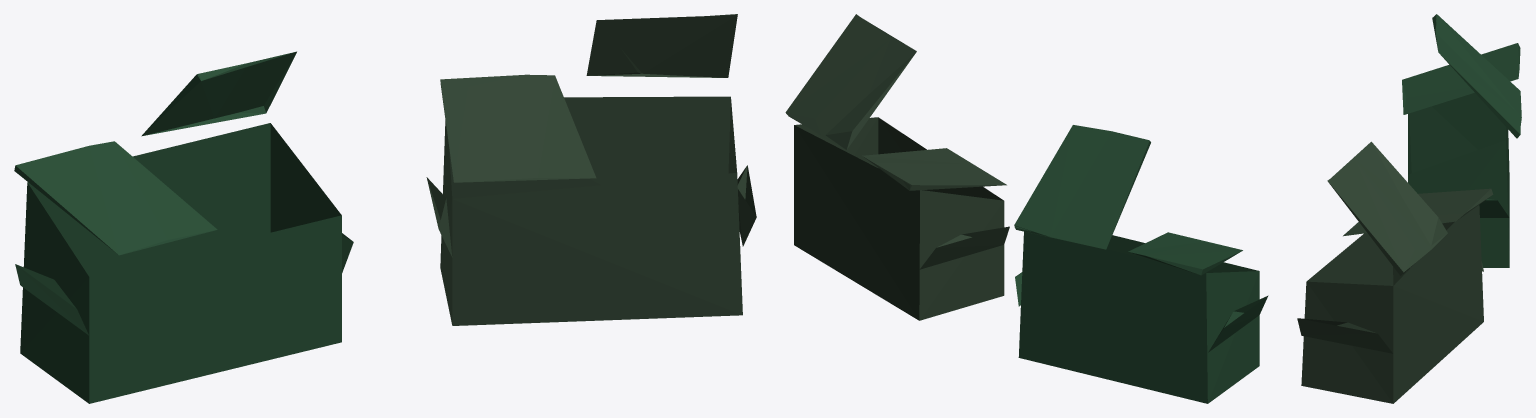
File: dumpsters.lod2.glb
3 views of the same model, side by side, from view 1: azimuth 30°, elevation 25°; view 2: azimuth 150°, elevation 25°; view 3: azimuth 270°, elevation 25° (orthographic). The views are drawn at different scales.
Parts seen in each view (by area): view 1: Base_01_Dumpster_01_0; view 2: Base_01_Dumpster_01_0; view 3: Base_01_Dumpster_01_0.
Part boxes in pixels (bbox=[...]): Base_01_Dumpster_01_0: bbox=[14, 14, 756, 403]; Base_01_Dumpster_01_0: bbox=[785, 14, 1268, 403]; Base_01_Dumpster_01_0: bbox=[1297, 14, 1521, 403].
Size of the model in its own units: 4.9 by 2.05 by 1.99.
